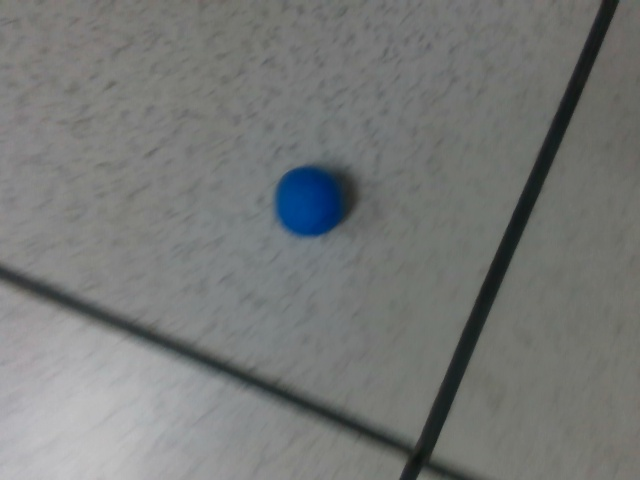blueball: (273, 165, 342, 237)
